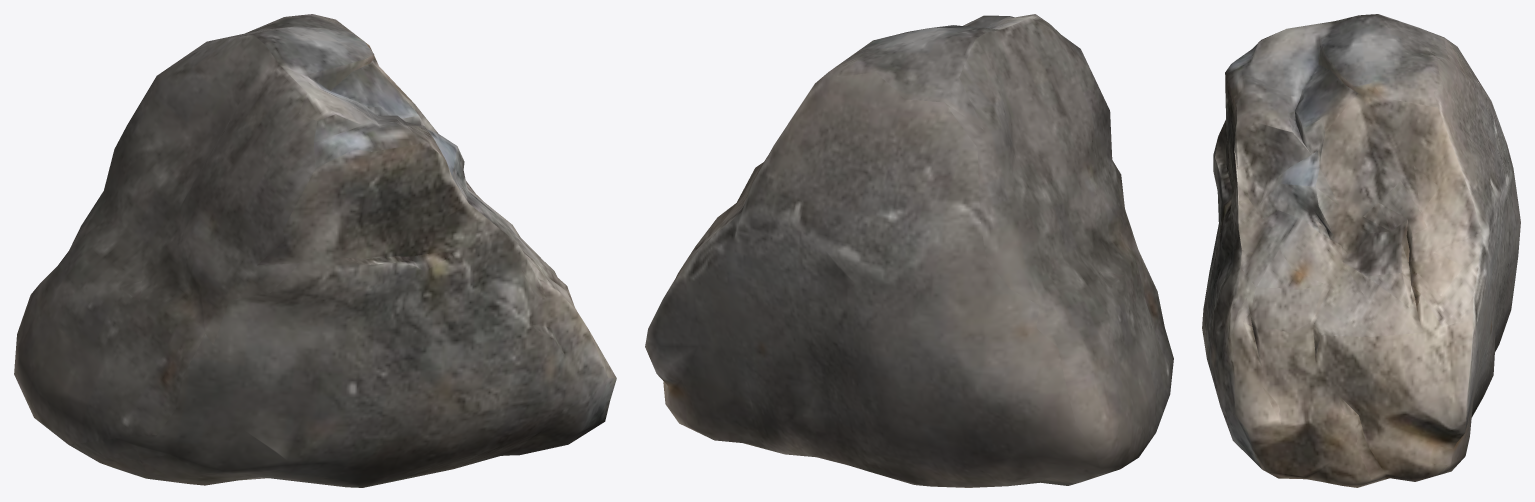
The model's file is weathered-stone-balanced.glb.
3 renders of one model, left to right at view 1: azimuth 30°, elevation 25°; view 2: azimuth 150°, elevation 25°; view 3: azimuth 270°, elevation 25°, orthographic. The views are drawn at different scales.
Visible parts, largest first — view 1: weathered-stone-balanced; view 2: weathered-stone-balanced; view 3: weathered-stone-balanced.
Boxes of the visible parts, box(x1,y1,x2,y2) form: weathered-stone-balanced: box(14, 14, 616, 487); weathered-stone-balanced: box(645, 14, 1173, 487); weathered-stone-balanced: box(1202, 14, 1520, 487).
Bounding box in the file's own units: 1.2 × 1 × 0.8136.
Materials: 1 (1 with a texture image).
